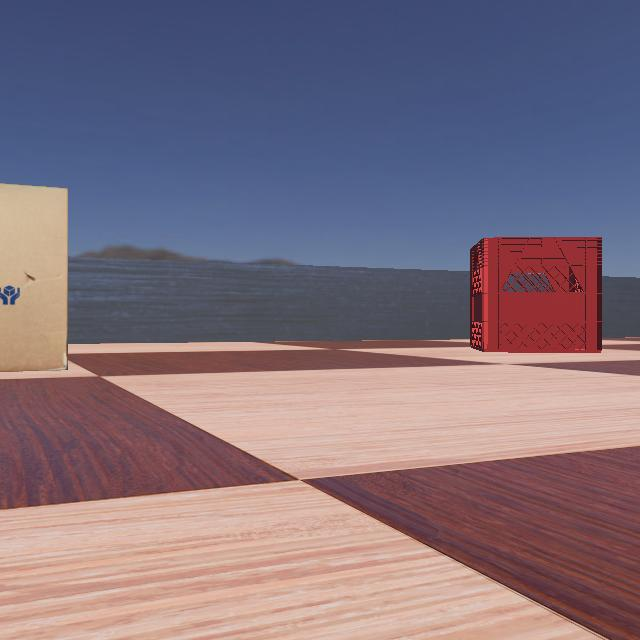cardboard-box: (0, 160, 116, 380), (0, 160, 116, 380)
plastic-crate: (461, 235, 612, 352)
